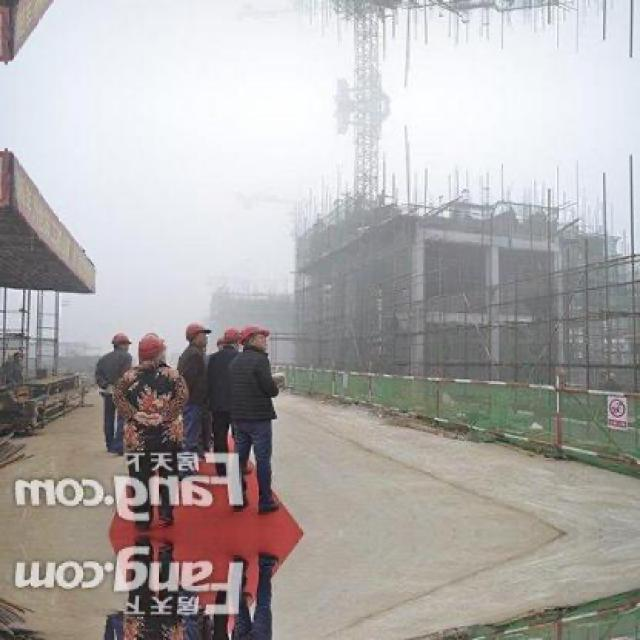helmet: (138, 328, 170, 366), (240, 322, 269, 358), (184, 321, 213, 348), (112, 332, 134, 353), (223, 327, 242, 350)
